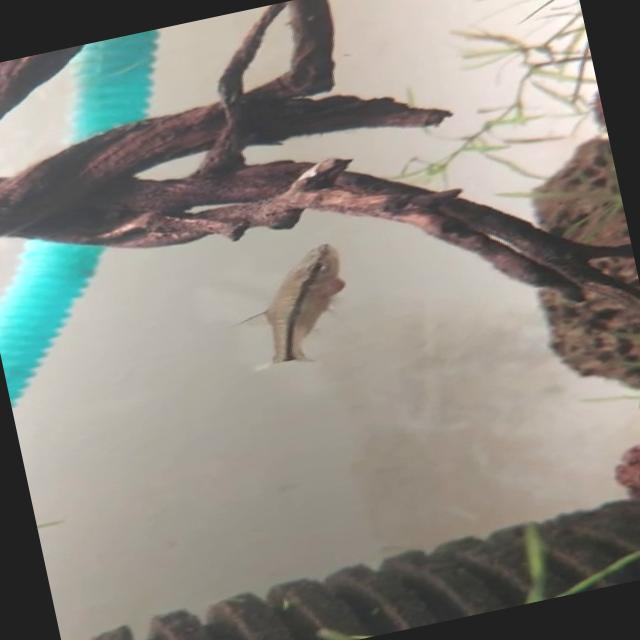Cakil Baligi: (220, 236, 364, 376)
